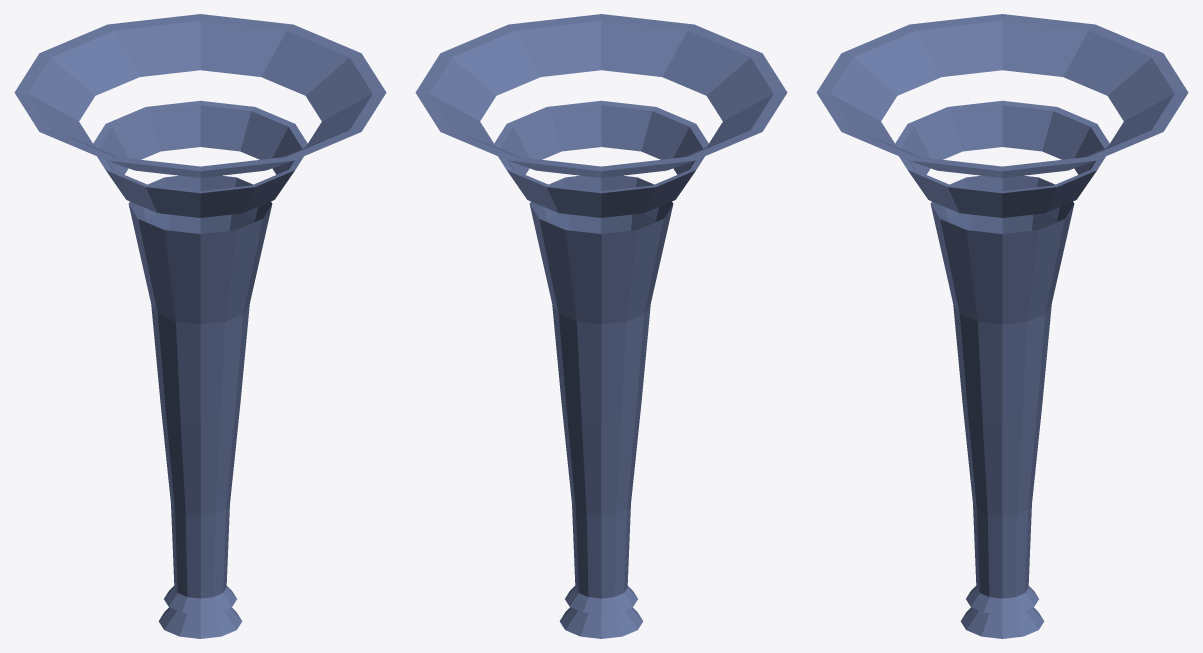
The model's file is torch.obj.
3 views of the same model, side by side, from view 1: azimuth 30°, elevation 25°; view 2: azimuth 150°, elevation 25°; view 3: azimuth 270°, elevation 25° (orthographic).
Parts seen in each view (by area): view 1: Torch; view 2: Torch; view 3: Torch.
Boxes of the visible parts, x1=… form: Torch: x1=14, y1=14, x2=386, y2=638; Torch: x1=415, y1=14, x2=787, y2=638; Torch: x1=816, y1=14, x2=1188, y2=638.
Bounding box in the file's own units: 2.02 × 3.17 × 2.02.
